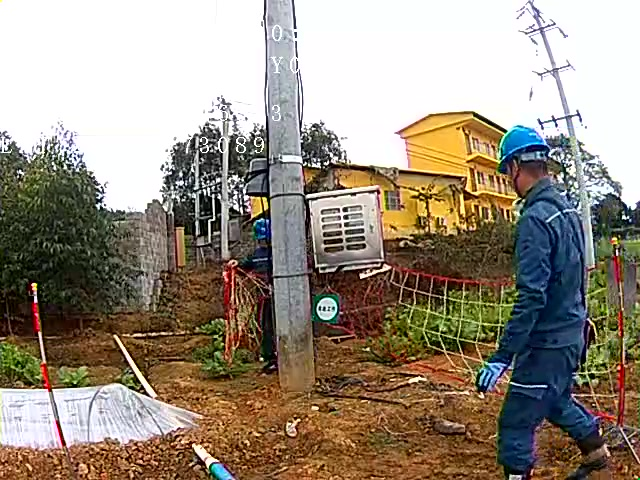downsuit: (496, 319, 592, 475), (256, 298, 282, 358)
glove: (478, 352, 510, 396)
halt: (497, 126, 553, 194), (248, 216, 279, 248)
hand: (222, 256, 238, 273)
inear: (506, 158, 521, 179)
person: (478, 124, 603, 480), (222, 218, 280, 372)
upsuit: (512, 183, 588, 320), (246, 256, 272, 296)
worksign: (310, 293, 339, 323)
